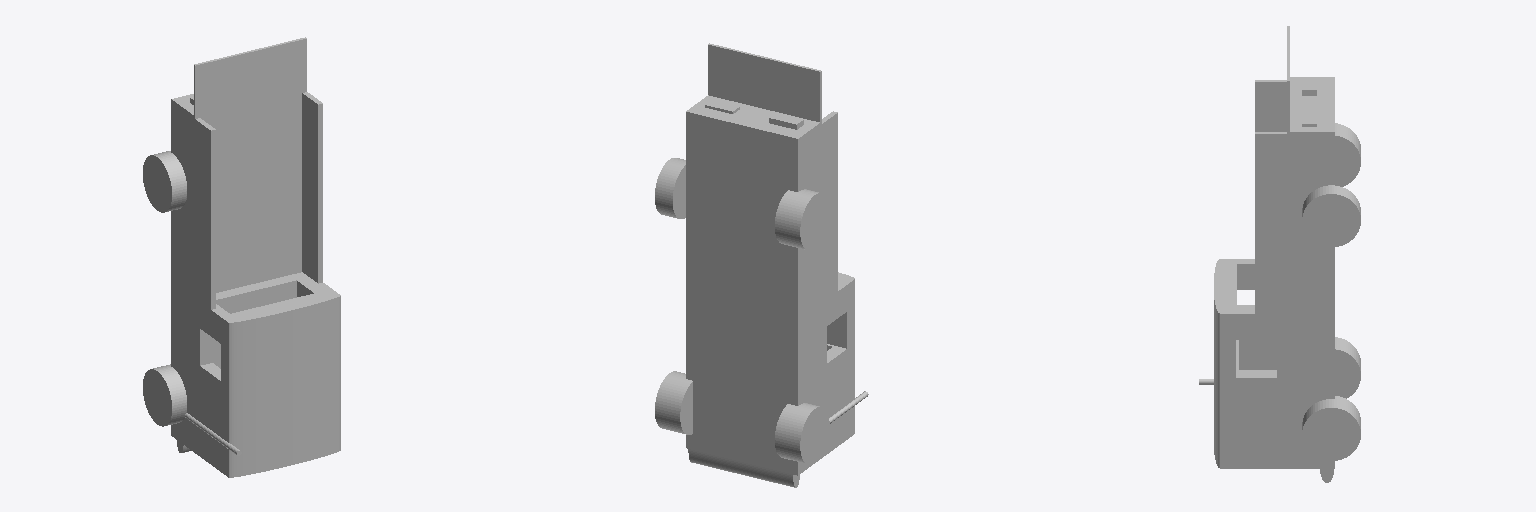
Rendered from low_poly_car.obj.
3 renders of one model, left to right at view 1: azimuth 30°, elevation 25°; view 2: azimuth 150°, elevation 25°; view 3: azimuth 270°, elevation 25°, orthographic.
Visible parts, largest first — view 1: obj_0; view 2: obj_0; view 3: obj_0.
Part boxes in pixels (left/top/right/bottom): obj_0: left=143, top=37, right=340, bottom=477; obj_0: left=655, top=43, right=868, bottom=487; obj_0: left=1199, top=26, right=1360, bottom=482.
Size of the model in its own units: 57 by 151 by 55.